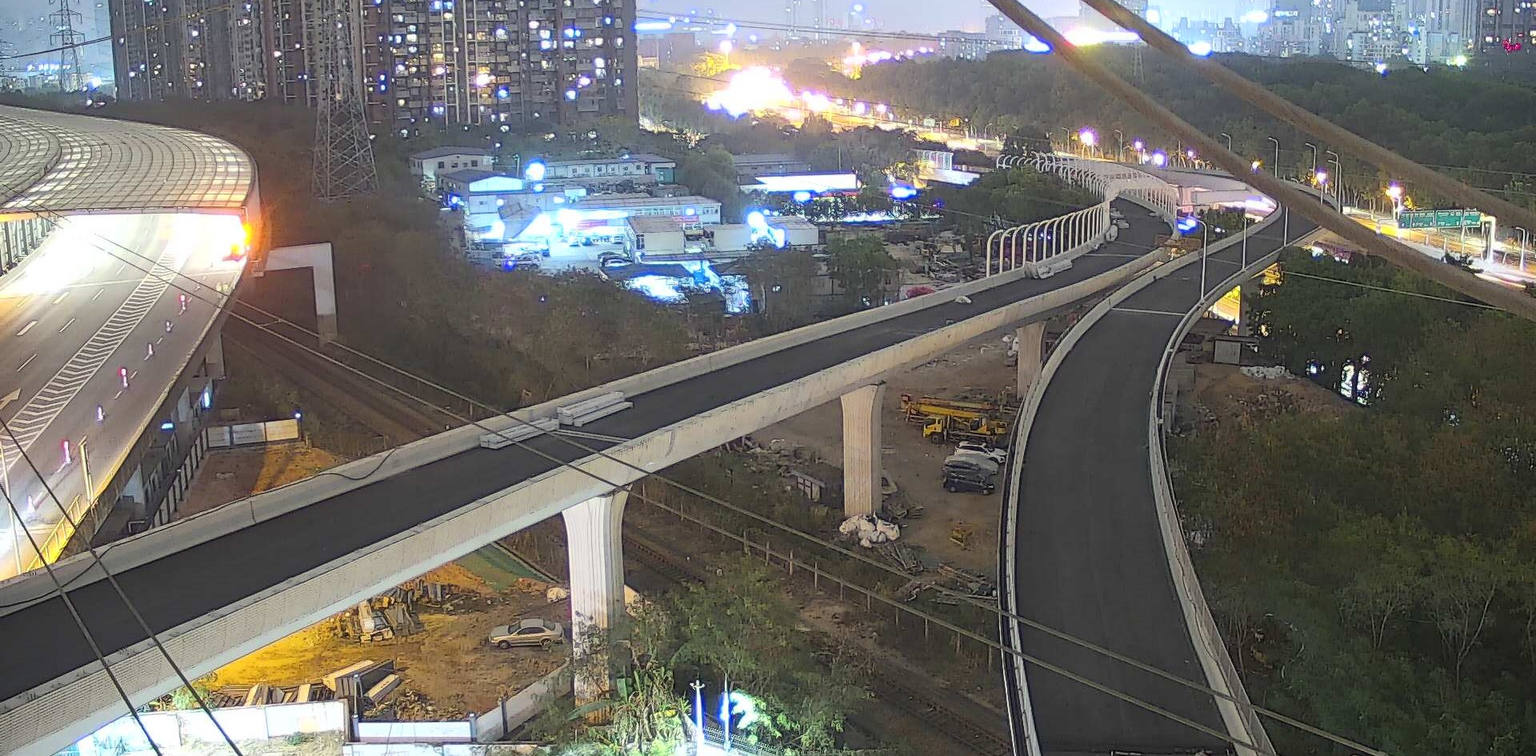过爆灯光: (0, 213, 138, 299), (505, 206, 627, 256), (163, 211, 254, 272), (701, 64, 794, 118), (624, 274, 685, 302), (746, 209, 785, 248), (1063, 26, 1138, 46), (801, 90, 831, 112), (481, 217, 505, 241), (1022, 36, 1049, 52), (525, 162, 544, 182), (1187, 41, 1212, 56), (1239, 10, 1267, 22), (866, 50, 891, 63), (634, 22, 671, 30), (892, 186, 916, 198), (842, 55, 866, 65), (793, 191, 810, 202), (725, 22, 736, 38), (1145, 10, 1158, 23), (669, 16, 675, 23)
